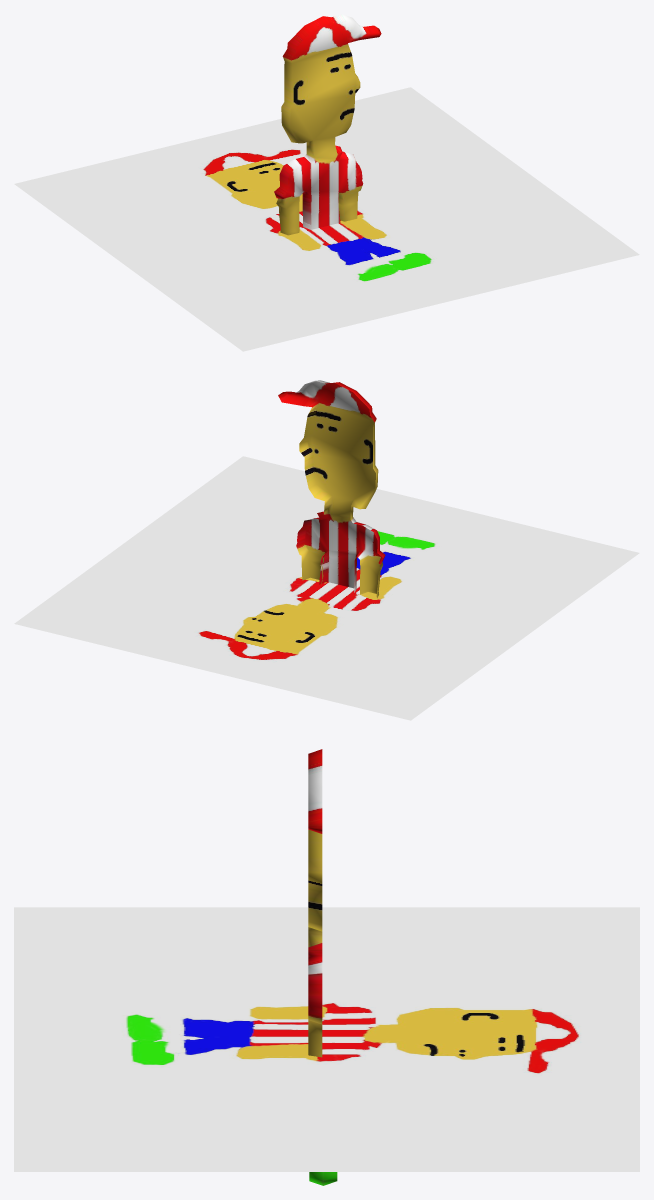
File: jalkapallomies1.gltf
3 renders of one model, top to bottom at view 1: azimuth 30°, elevation 25°; view 2: azimuth 150°, elevation 25°; view 3: azimuth 270°, elevation 25°, orthographic. The views are drawn at different scales.
Visible parts, largest first — view 1: Plane, Plane.001; view 2: Plane, Plane.001; view 3: Plane, Plane.001.
Boxes of the visible parts, left/top/right/bottom form: Plane: left=14, top=87, right=639, bottom=351; Plane.001: left=274, top=14, right=381, bottom=235; Plane: left=14, top=456, right=639, bottom=720; Plane.001: left=278, top=380, right=385, bottom=598; Plane: left=14, top=907, right=639, bottom=1171; Plane.001: left=308, top=749, right=322, bottom=1057.
Size of the model in its own units: 2 by 1.45 by 2.
1 material, 1 textured.
